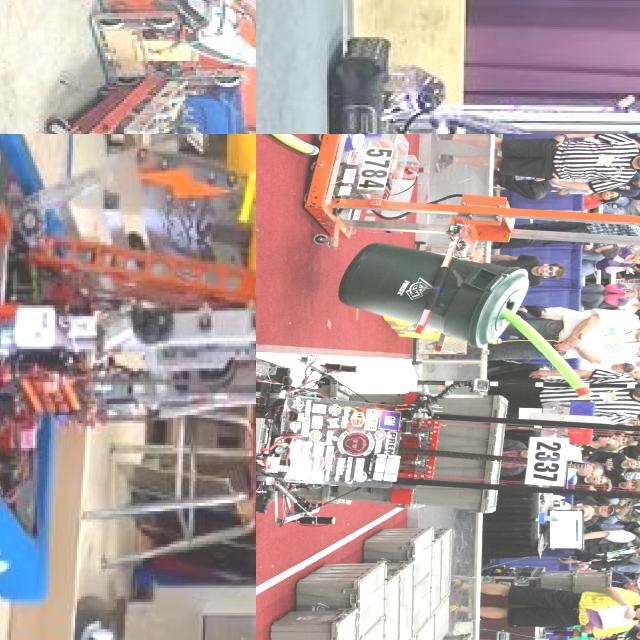FRC-Robots: (0, 134, 256, 624), (256, 355, 640, 537), (281, 6, 640, 134), (294, 134, 640, 266), (0, 0, 231, 107)
